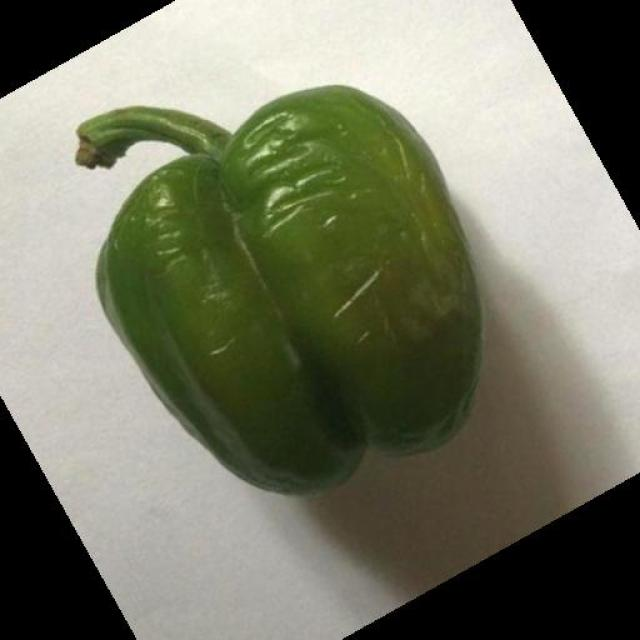Stale_Capsicum: (60, 89, 502, 482)
